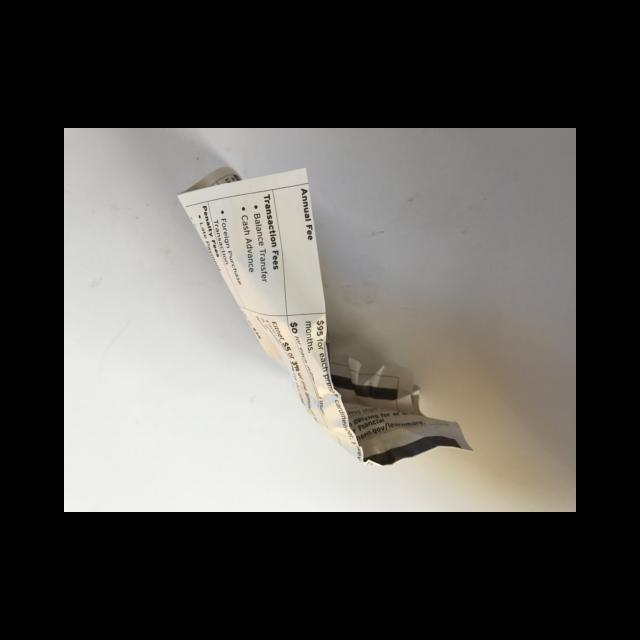paper: (175, 166, 472, 465)
